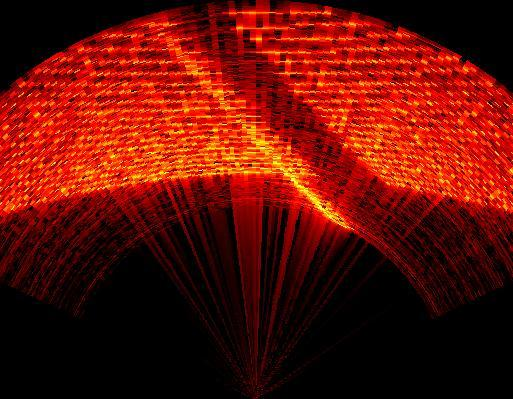pipe: (150, 3, 386, 233)
